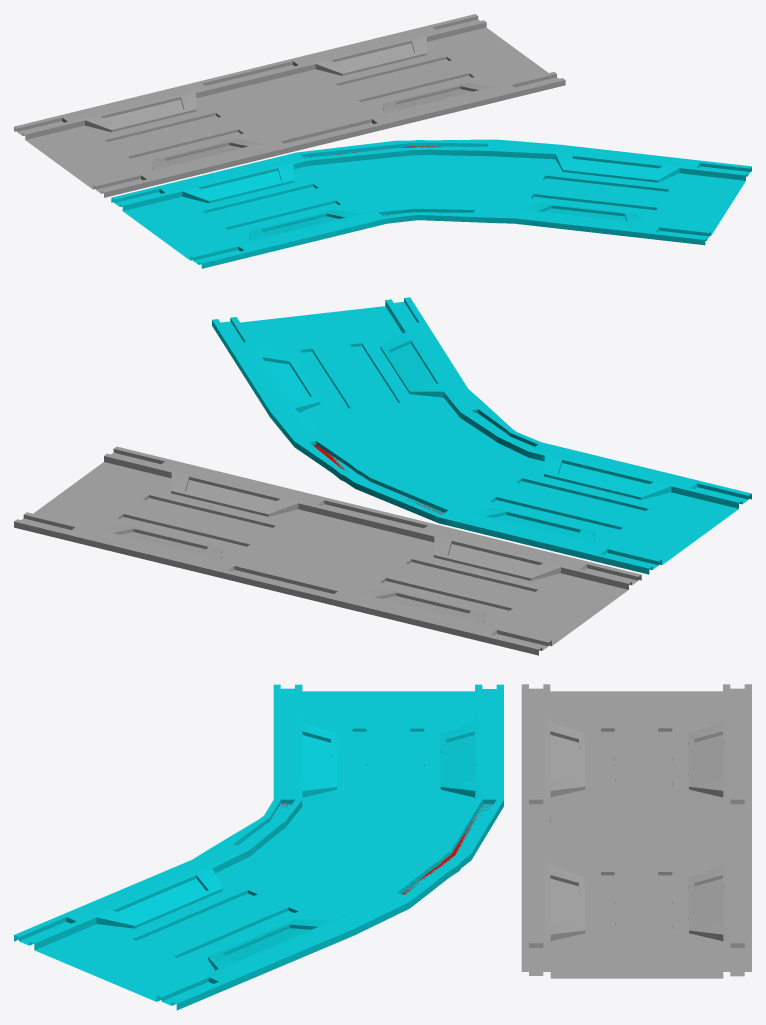
File: Roads1.fbx
3 renders of one model, top to bottom at view 1: azimuth 30°, elevation 25°; view 2: azimuth 150°, elevation 25°; view 3: azimuth 270°, elevation 25°, orthographic. The views are drawn at different scales.
Parts seen in each view (by area): view 1: Curved_Track, Straight_Track, Curved_Track_ID; view 2: Straight_Track, Curved_Track, Curved_Track_ID; view 3: Curved_Track, Straight_Track, Curved_Track_ID.
Boxes of the visible parts, box(x1,y1,x2,y2) form: Curved_Track: box(111, 140, 751, 268); Straight_Track: box(14, 14, 565, 197); Curved_Track_ID: box(297, 139, 559, 223); Straight_Track: box(14, 446, 641, 655); Curved_Track: box(212, 297, 751, 574); Curved_Track_ID: box(270, 389, 540, 522); Curved_Track: box(14, 684, 503, 1010); Straight_Track: box(521, 684, 751, 978); Curved_Track_ID: box(193, 799, 503, 934).
Size of the model in its own units: 3485 by 51.08 by 3403.
